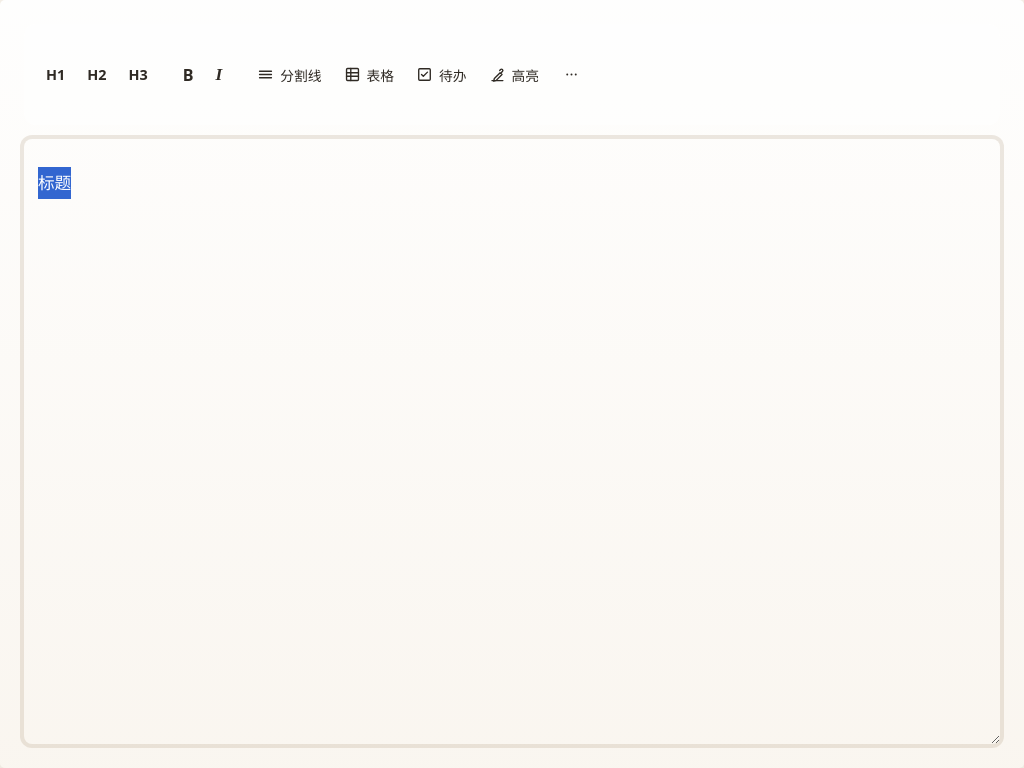
it: markdown editor › formats the current line when a heading toolbar button is clicked
Click the button named "一级标题".
click(56, 74)  # box [36, 58, 75, 92]
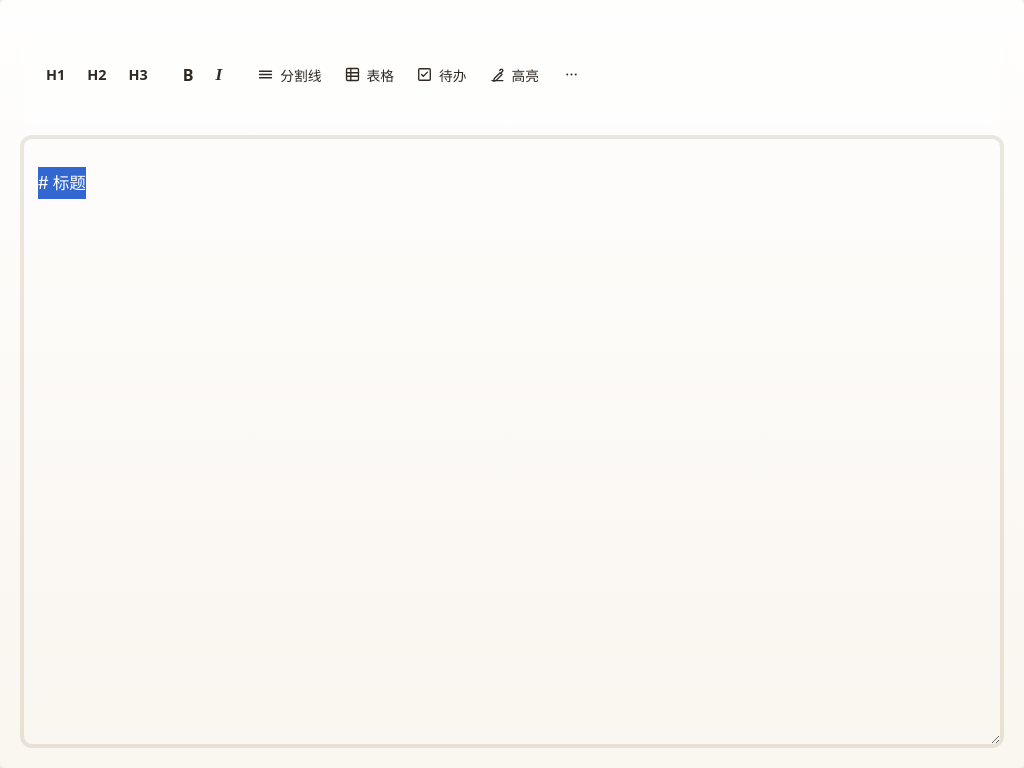
Now the text box named "Markdown 编辑器" holds "# 标题"
